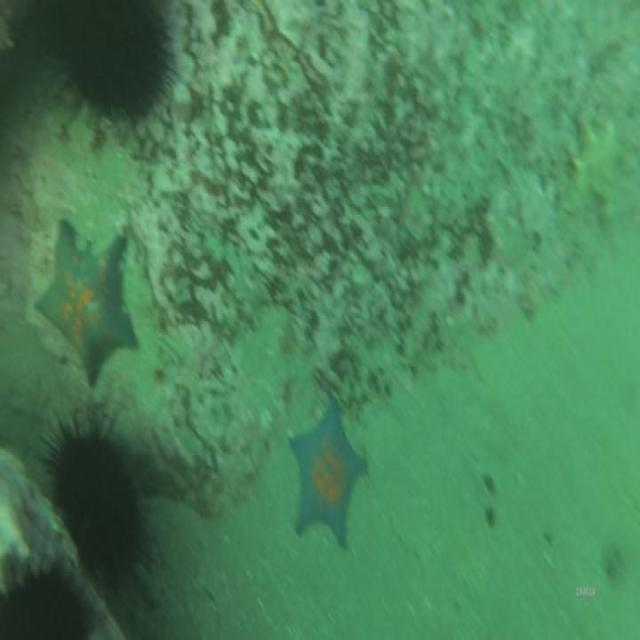echinus: (34, 408, 150, 575), (53, 5, 179, 142), (2, 556, 87, 638)
holothurian: (569, 114, 627, 218)
starfish: (37, 212, 139, 381), (286, 387, 367, 550)
